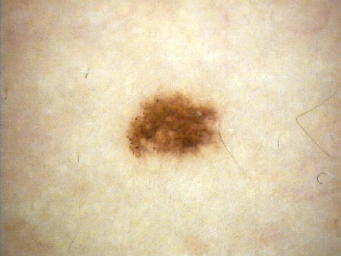melanoma: (128, 91, 222, 161)
